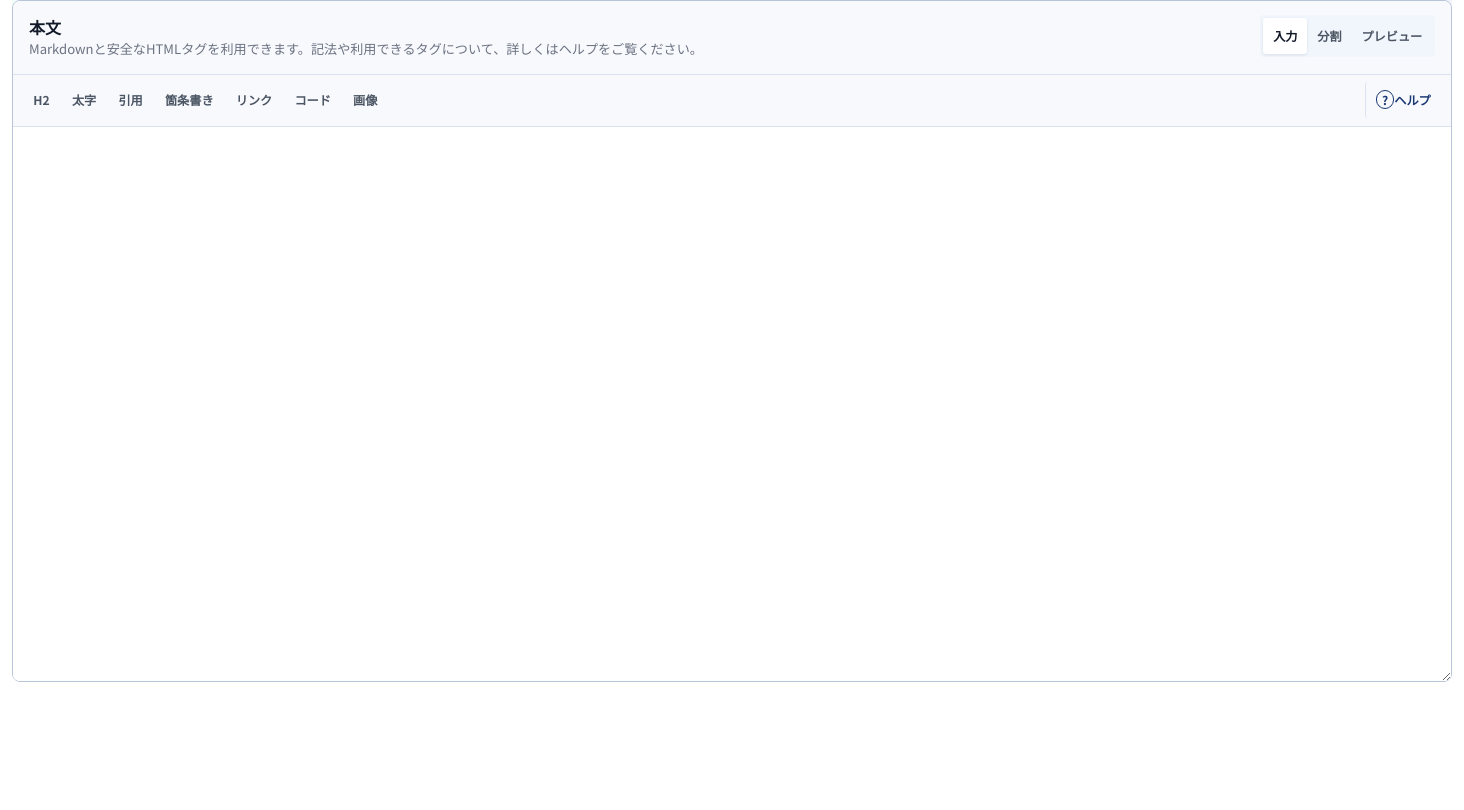
it: ArticleEditor › keeps an empty heading editable in split view
Step 1. Click the button "分割" → (1329, 36), box left=1307, top=18, right=1352, bottom=54
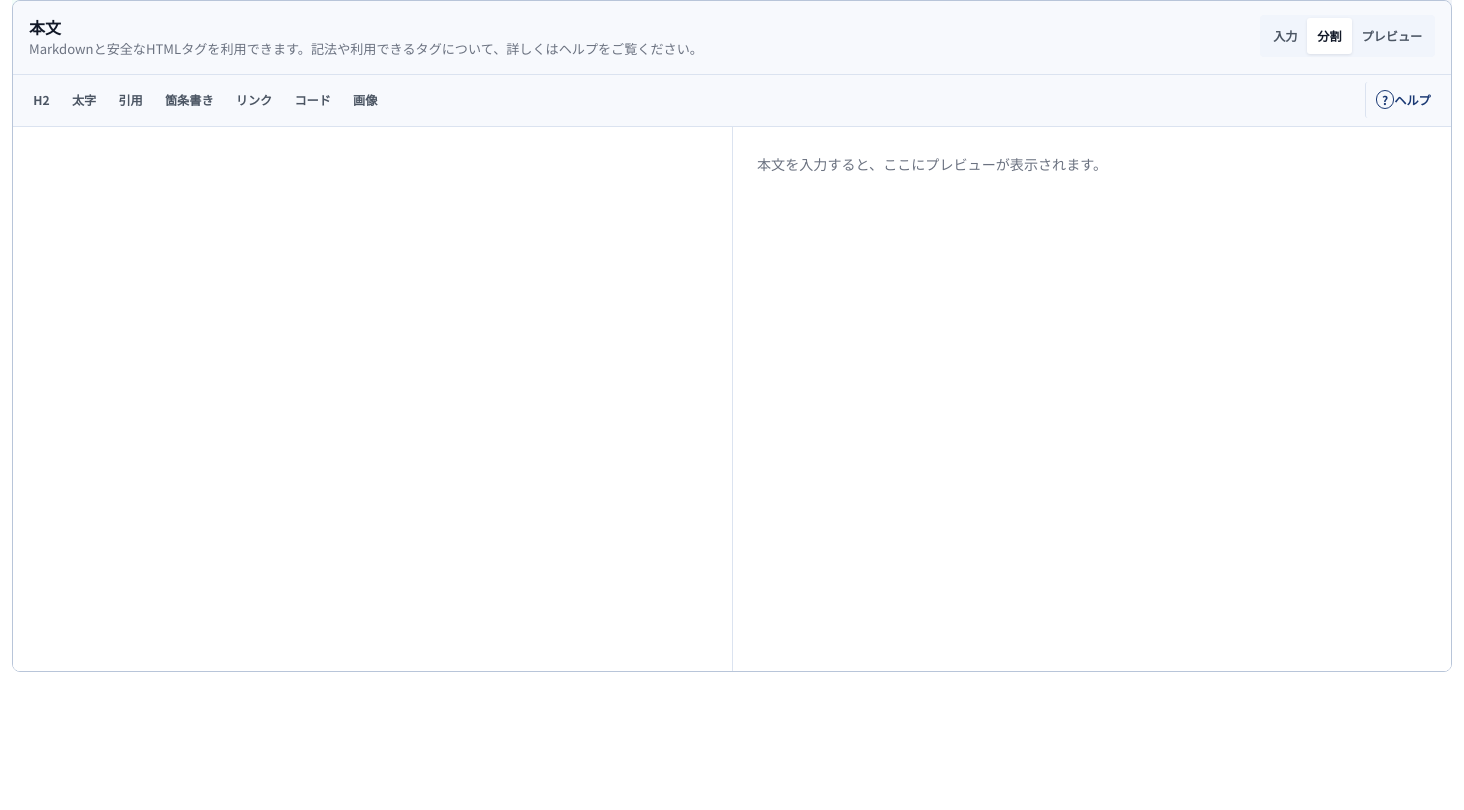
Step 2. Type "## " into the text box labelled "本文" → (372, 398), box left=13, top=126, right=732, bottom=670
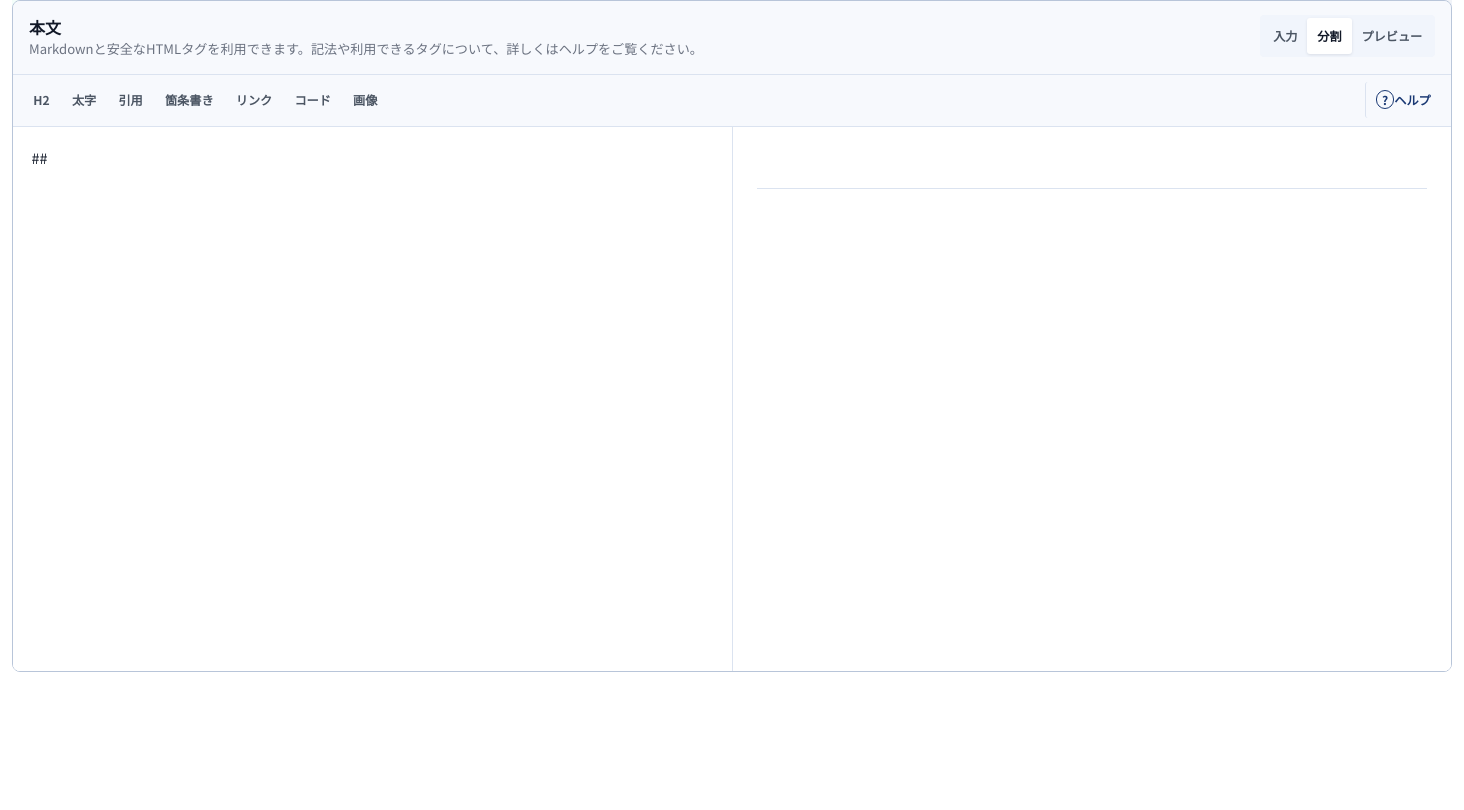
Now the heading is shown, box left=757, top=182, right=1427, bottom=189
